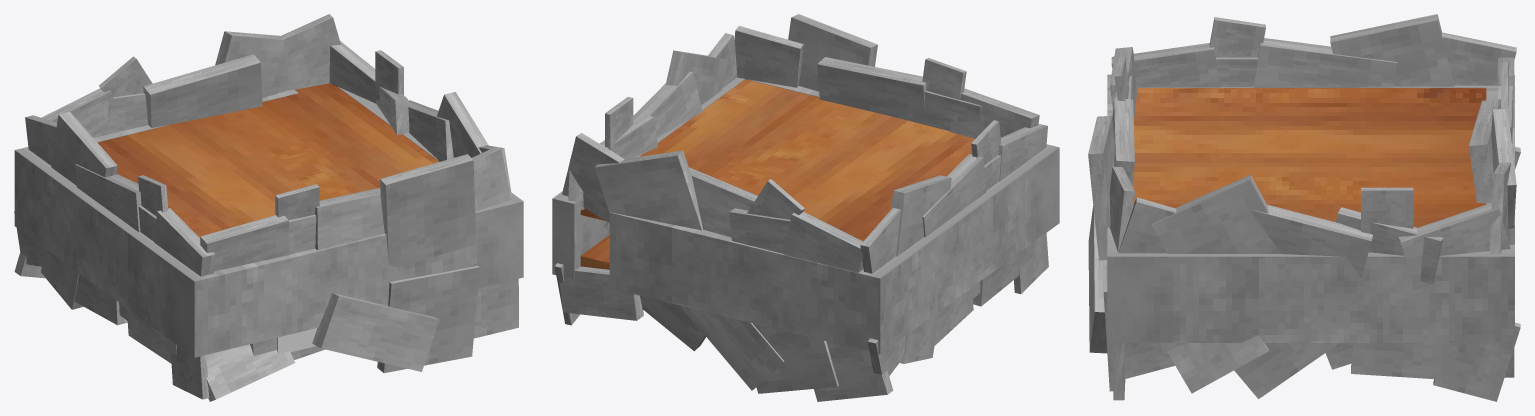
Rendered from huse.glb.
3 views of the same model, side by side, from view 1: azimuth 30°, elevation 25°; view 2: azimuth 150°, elevation 25°; view 3: azimuth 270°, elevation 25° (orthographic). The views are drawn at different scales.
Visible parts, largest first — view 1: Cube.001, Cube.002, Cube.014, Cube.046, Cube.022, Cube.045, Cube.012, Cube.013, Cube.025, Cube.047, Cube.021, Cube.020 (+24 smaller); view 2: Cube.001, Cube.002, Cube.021, Cube.013, Cube.044, Cube.043, Cube.014, Cube.010, Cube.023, Cube.042, Cube.040, Cube.025 (+22 smaller); view 3: Cube.002, Cube.001, Cube.003, Cube.020, Cube.019, Cube.004, Cube.005, Cube.031, Cube.018, Cube.032, Cube.027, Cube.028 (+20 smaller).
Boxes of the visible parts, x1,y1,x2,y2 form: Cube.001: (14,86,523,357); Cube.002: (97,83,439,237); Cube.014: (380,154,476,267); Cube.046: (312,293,439,371); Cube.022: (143,54,262,127); Cube.045: (377,266,479,373); Cube.012: (200,215,289,271); Cube.013: (315,188,384,250); Cube.025: (280,14,340,90); Cube.047: (206,344,295,401); Cube.021: (215,31,289,97); Cube.020: (51,111,117,185); Cube.001: (552,77,1059,354); Cube.002: (580,79,974,269); Cube.021: (594,150,702,230); Cube.013: (817,57,926,117); Cube.044: (753,323,838,393); Cube.043: (680,305,784,390); Cube.014: (788,14,877,91); Cube.010: (734,26,803,87); Cube.023: (782,211,863,272); Cube.042: (559,266,643,320); Cube.040: (814,341,893,401); Cube.025: (562,133,630,222); Cube.002: (1132,88,1486,227); Cube.001: (1107,74,1514,342); Cube.003: (1151,175,1281,253); Cube.020: (1330,14,1454,86); Cube.019: (1253,38,1396,87); Cube.004: (1249,204,1372,277); Cube.005: (1398,203,1510,289); Cube.031: (1351,343,1457,380); Cube.018: (1111,43,1220,87); Cube.032: (1433,322,1520,401); Cube.027: (1167,335,1268,393); Cube.028: (1234,343,1339,399).
Size of the model in its own units: 23.35 by 14.38 by 22.77.
Materials: 2 (2 with a texture image).
